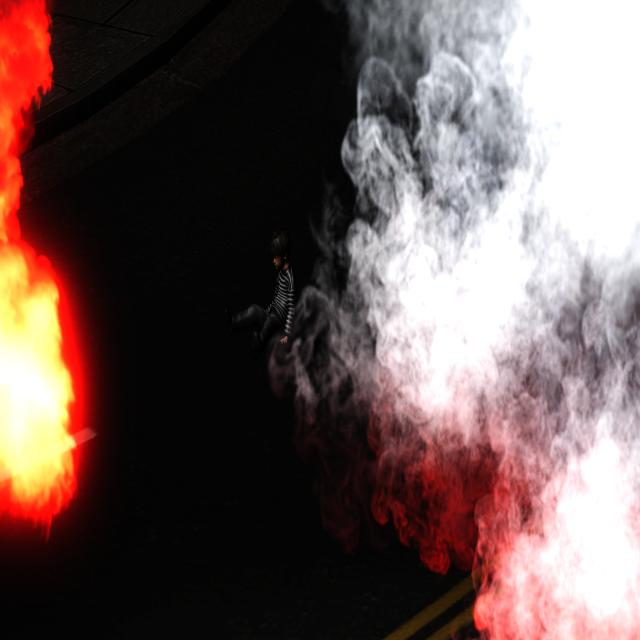Human: (223, 231, 295, 356)
